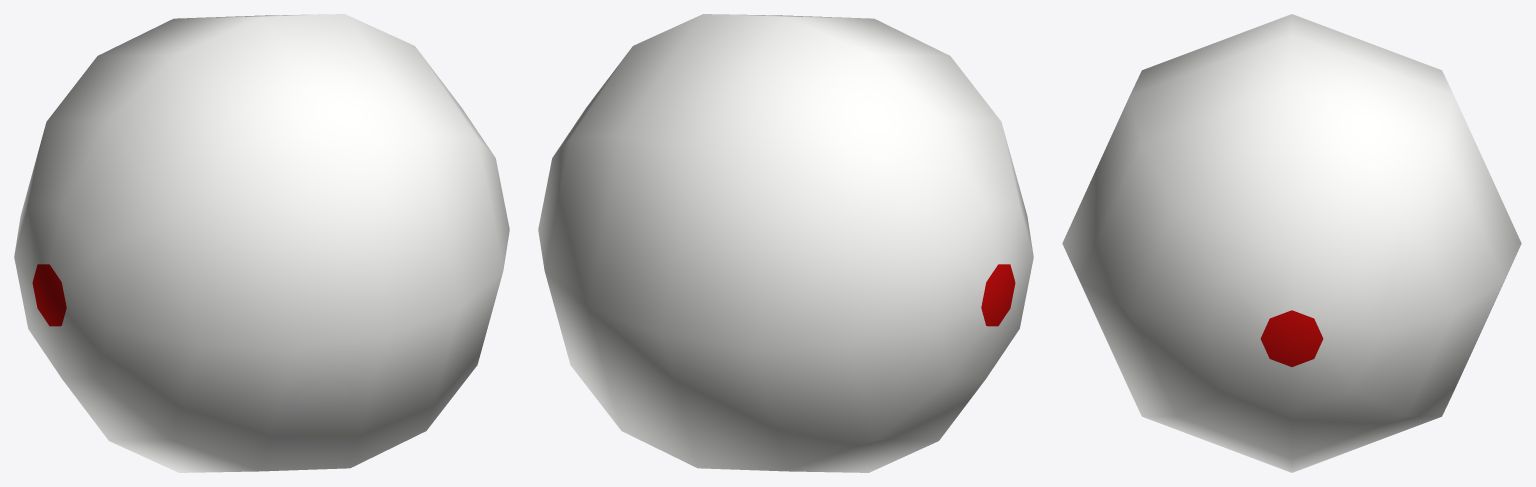
Rendered from 346a24ad-acc1-43d9-b48e-7690e85625bc.glb.
3 renders of one model, left to right at view 1: azimuth 30°, elevation 25°; view 2: azimuth 150°, elevation 25°; view 3: azimuth 270°, elevation 25°, orthographic. The views are drawn at different scales.
Visible parts, largest first — view 1: WhiteBallRedDots; view 2: WhiteBallRedDots; view 3: WhiteBallRedDots.
Boxes of the visible parts, left/top/right/bottom form: WhiteBallRedDots: left=14, top=14, right=509, bottom=472; WhiteBallRedDots: left=538, top=14, right=1033, bottom=472; WhiteBallRedDots: left=1062, top=14, right=1521, bottom=472.
Bounding box in the file's own units: 0.0855 × 0.0855 × 0.0855.
Materials: 1 (1 with a texture image).
